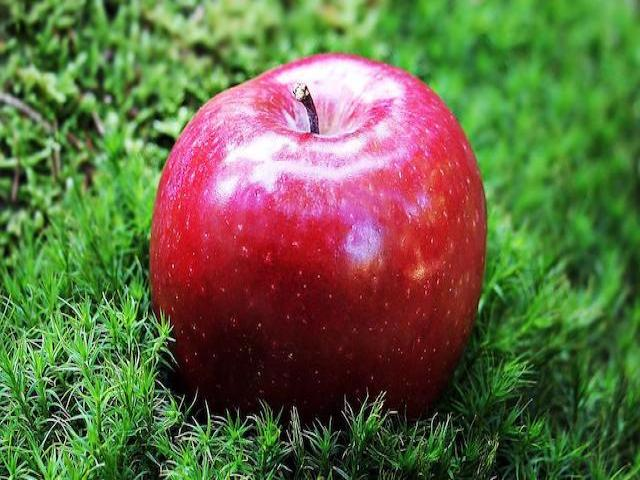apple: (145, 49, 490, 437)
